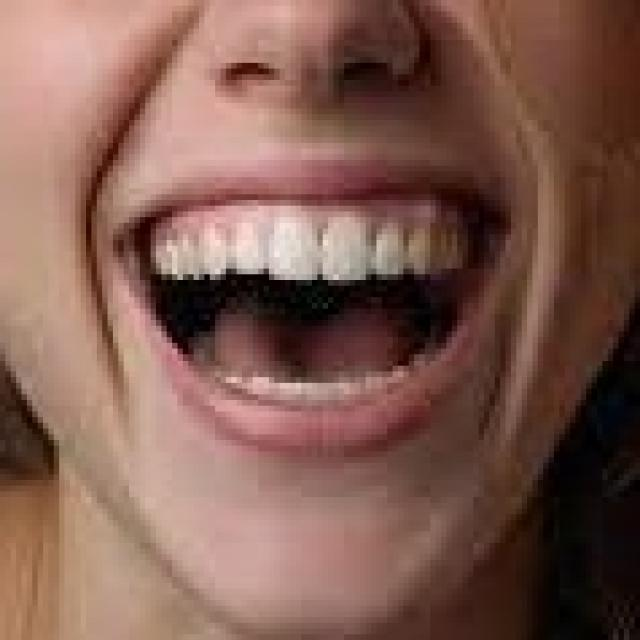No Cancer: (250, 295, 380, 368)
